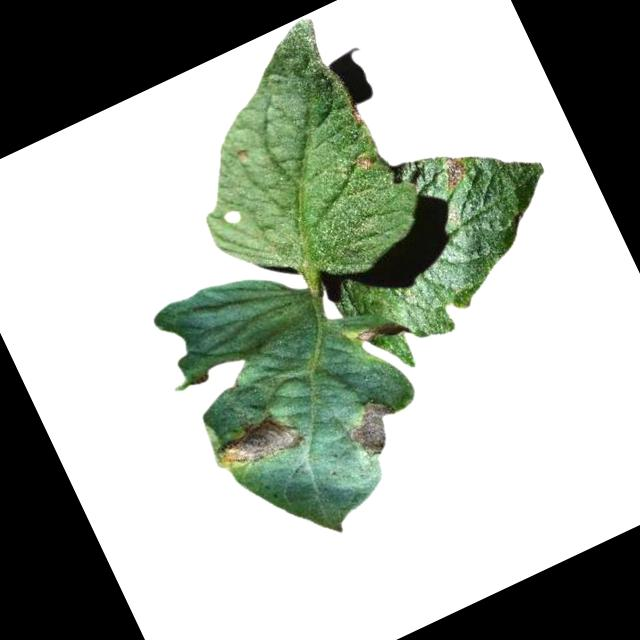Early_blight: (208, 398, 304, 482), (337, 390, 409, 466), (355, 307, 415, 355), (435, 152, 471, 193), (346, 100, 368, 129), (355, 150, 374, 172)
